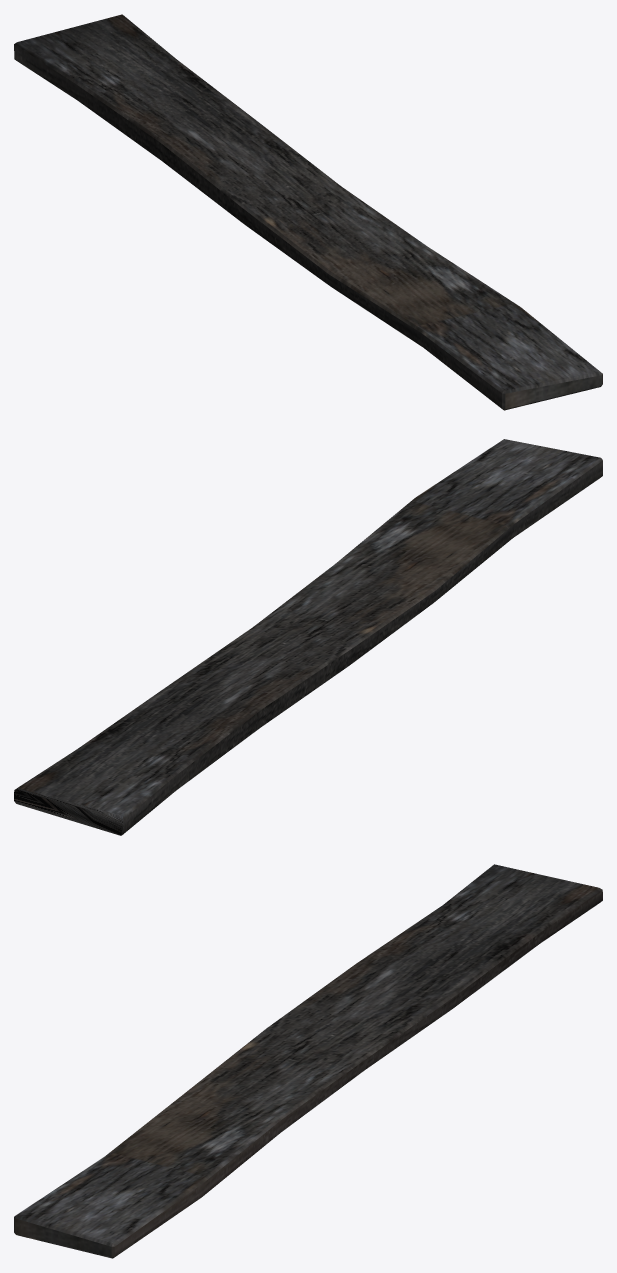
File: processed plank.fbx
3 renders of one model, top to bottom at view 1: azimuth 30°, elevation 25°; view 2: azimuth 150°, elevation 25°; view 3: azimuth 330°, elevation 25°, orthographic.
Visible parts, largest first — view 1: Plank Processed; view 2: Plank Processed; view 3: Plank Processed.
Part boxes in pixels (x1=…): Plank Processed: x1=14, y1=14, x2=602, y2=410; Plank Processed: x1=14, y1=439, x2=602, y2=835; Plank Processed: x1=14, y1=864, x2=602, y2=1258.
Bounding box in the file's own units: 32.55 × 7.03 × 249.
1 material, 1 textured.
